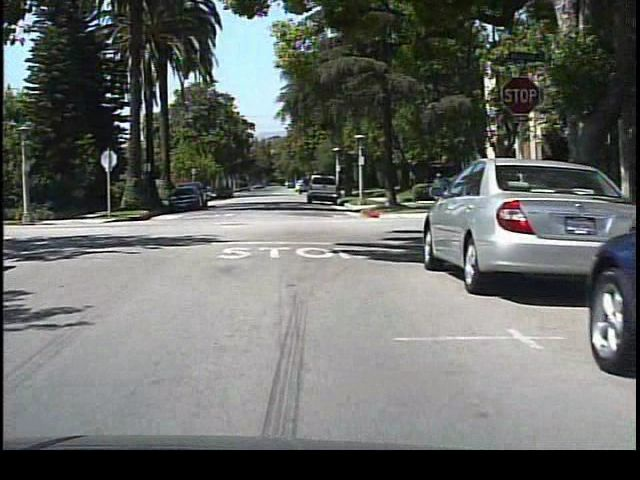person: (427, 166, 450, 213)
